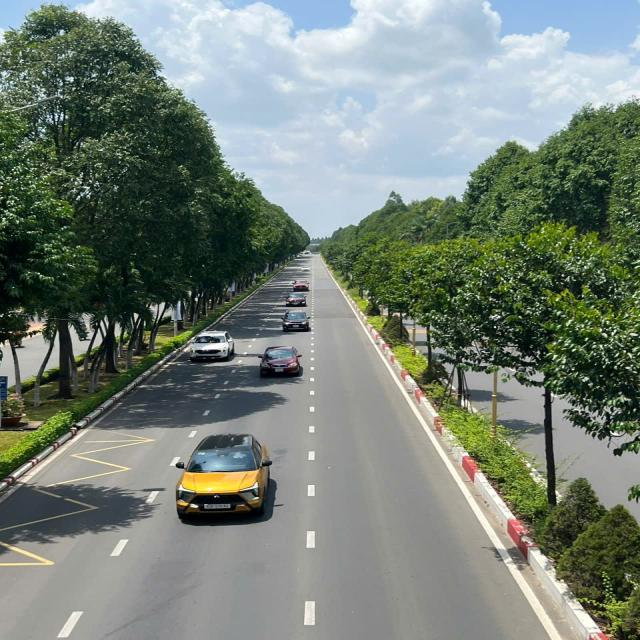car: (187, 432, 272, 521), (258, 345, 304, 379), (194, 328, 236, 363), (279, 309, 310, 330), (283, 294, 310, 308), (288, 281, 312, 290), (301, 266, 313, 273)
